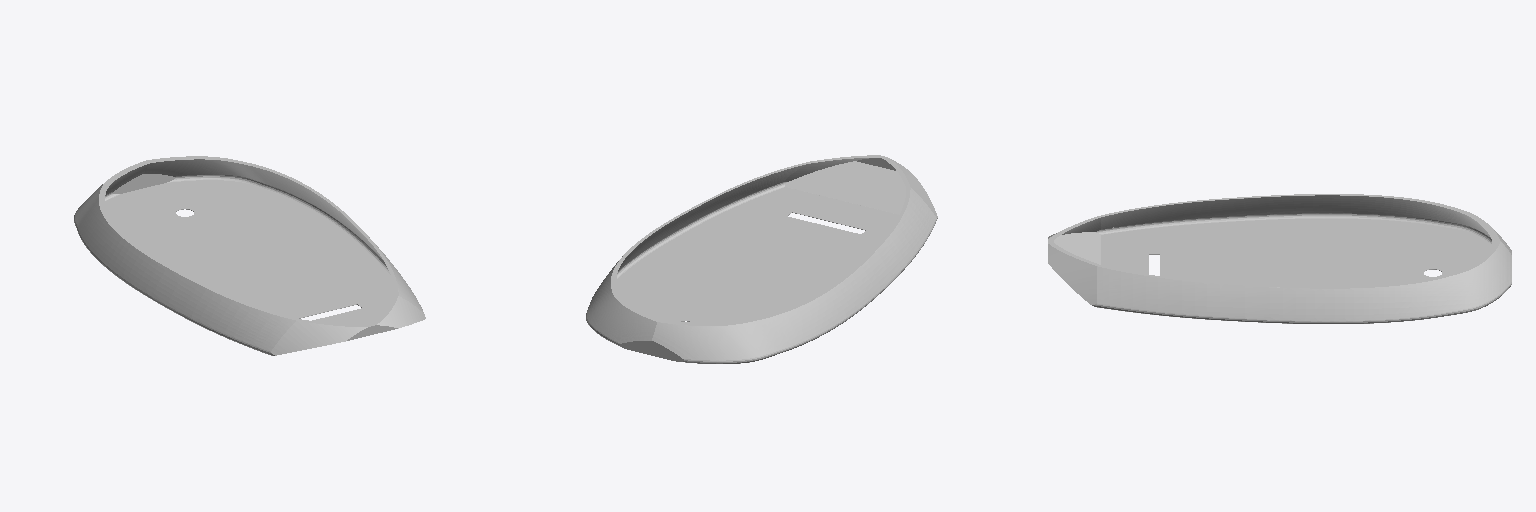
Rendered from body_bottom.obj.
3 views of the same model, side by side, from view 1: azimuth 30°, elevation 25°; view 2: azimuth 150°, elevation 25°; view 3: azimuth 270°, elevation 25° (orthographic).
Parts seen in each view (by area): view 1: drone_body_buttom_; view 2: drone_body_buttom_; view 3: drone_body_buttom_.
Boxes of the visible parts, x1=… form: drone_body_buttom_: x1=74, y1=156, x2=425, y2=355; drone_body_buttom_: x1=586, y1=155, x2=937, y2=363; drone_body_buttom_: x1=1048, y1=194, x2=1511, y2=323.
Bounding box in the file's own units: 6.88 × 0.8646 × 12.34.